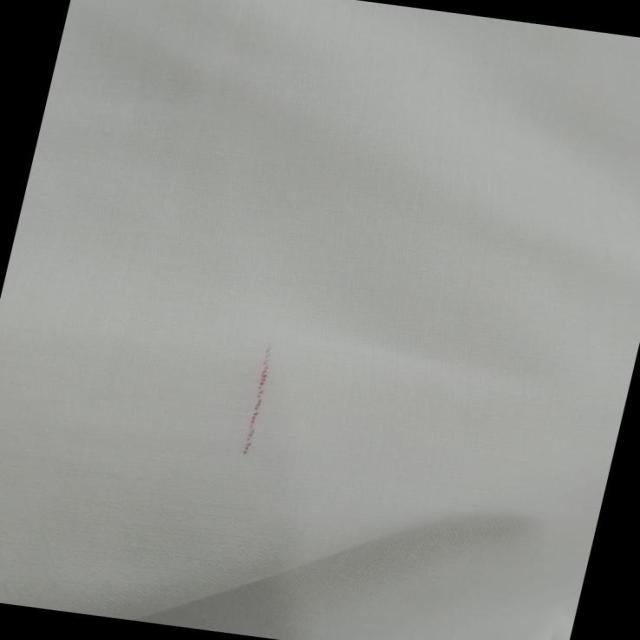contamination: (224, 344, 294, 472)
